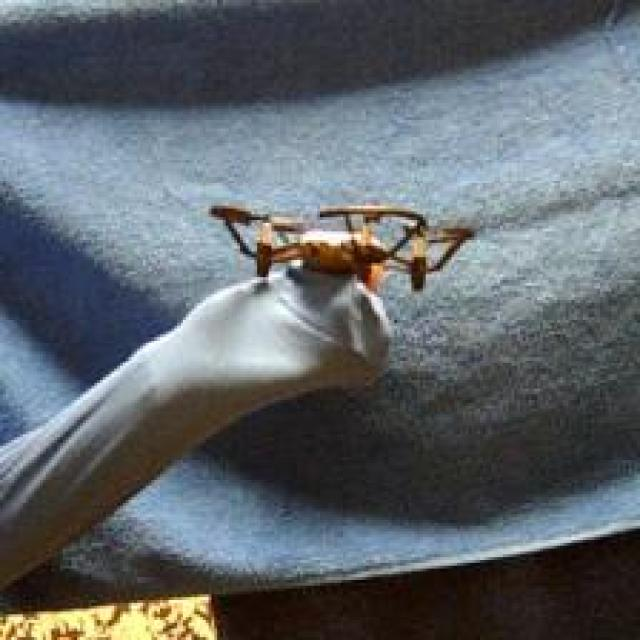drone: (204, 198, 473, 296)
